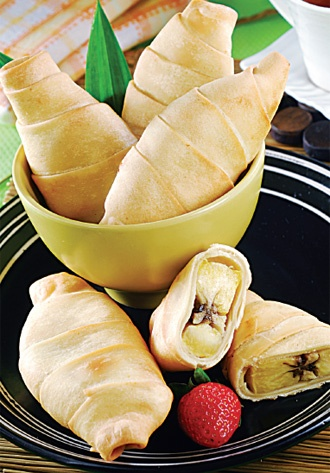pisang_molen: (98, 51, 291, 227), (18, 271, 175, 458)
